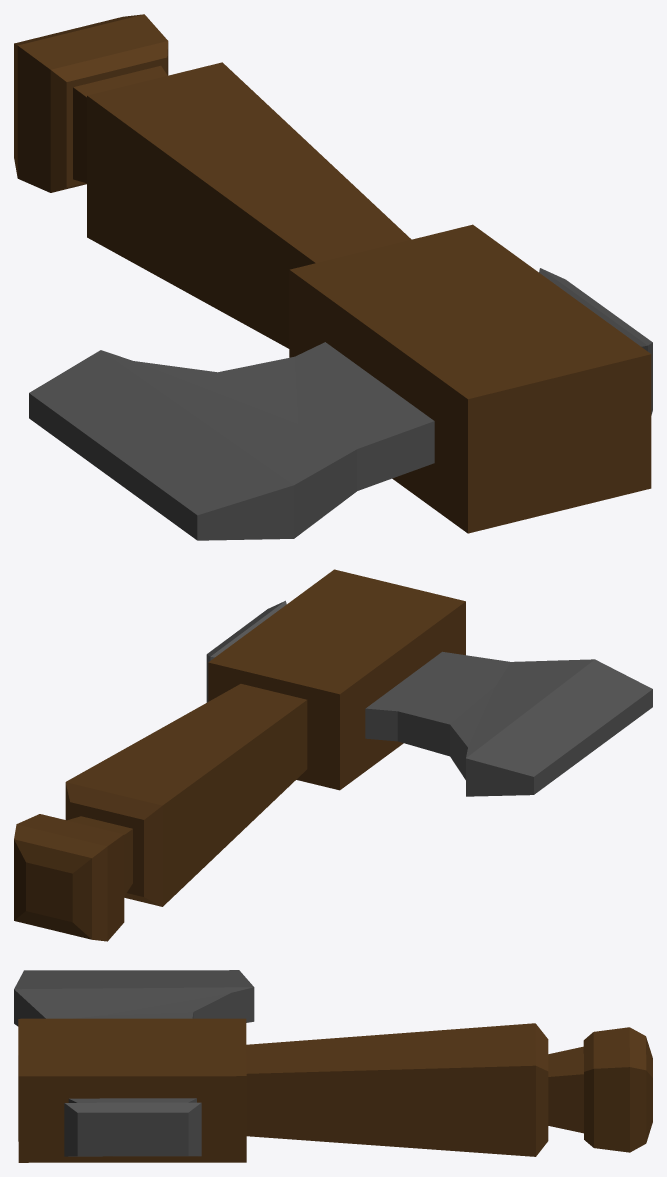
File: F_Hatchet_B.fbx
3 renders of one model, top to bottom at view 1: azimuth 30°, elevation 25°; view 2: azimuth 150°, elevation 25°; view 3: azimuth 270°, elevation 25°, orthographic. The views are drawn at different scales.
Parts seen in each view (by area): view 1: F_Hatchet_B; view 2: F_Hatchet_B; view 3: F_Hatchet_B.
Part boxes in pixels (bbox=[...]): F_Hatchet_B: bbox=[14, 14, 652, 540]; F_Hatchet_B: bbox=[14, 569, 652, 941]; F_Hatchet_B: bbox=[14, 970, 652, 1162].
Size of the model in its own units: 40.64 by 11.06 by 70.24.
